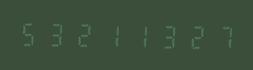five: (17, 18, 43, 48)
one: (125, 19, 151, 50), (98, 19, 124, 49)
seven: (206, 21, 232, 51)
three: (44, 18, 70, 49), (152, 20, 178, 50)
two: (179, 20, 205, 51), (71, 19, 97, 49)
